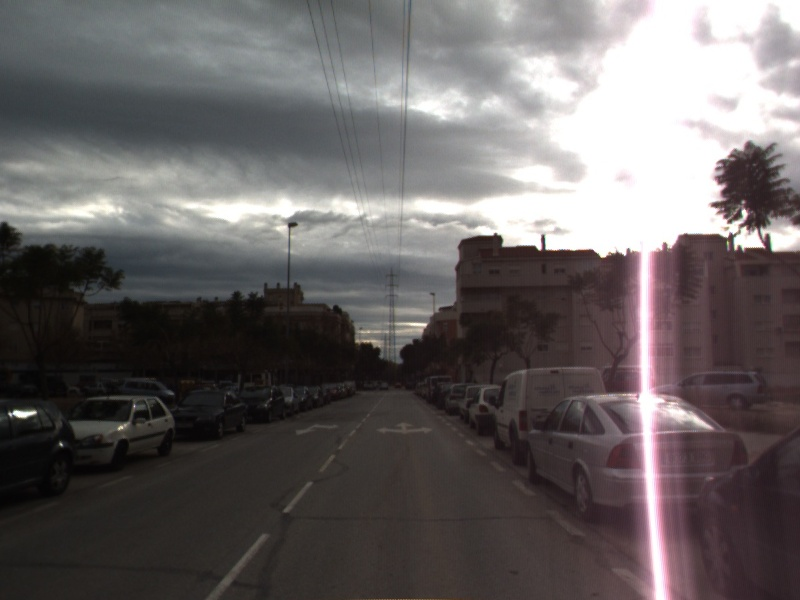STRAIGHT_LEFT_RIGHT: (374, 420, 435, 436)
